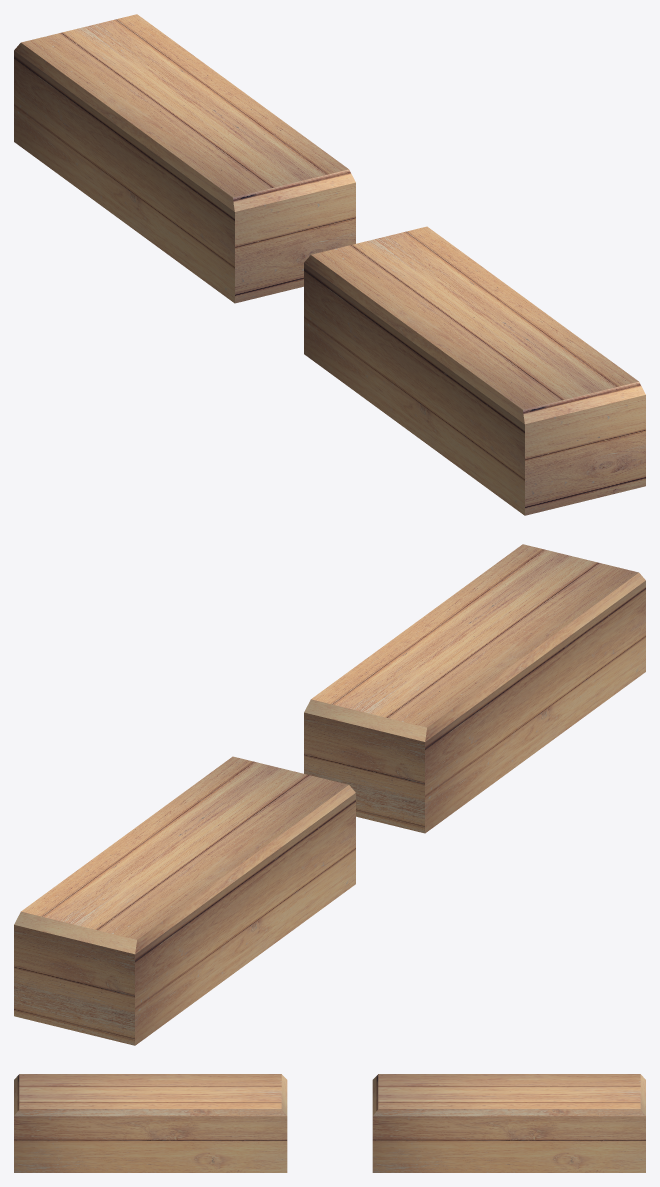
The model's file is bench.fbx.
The picture shows the model from 3 angles, top to bottom: view 1: azimuth 30°, elevation 25°; view 2: azimuth 150°, elevation 25°; view 3: azimuth 270°, elevation 25°; orthographic projection. The views are drawn at different scales.
Parts seen in each view (by area): view 1: bench; view 2: bench; view 3: bench.
Boxes of the visible parts, bbox=[...] form: bench: bbox=[14, 14, 645, 515]; bench: bbox=[14, 544, 645, 1045]; bench: bbox=[14, 1074, 645, 1172].
Bounding box in the file's own units: 3.1 × 2.5 × 22.66.
